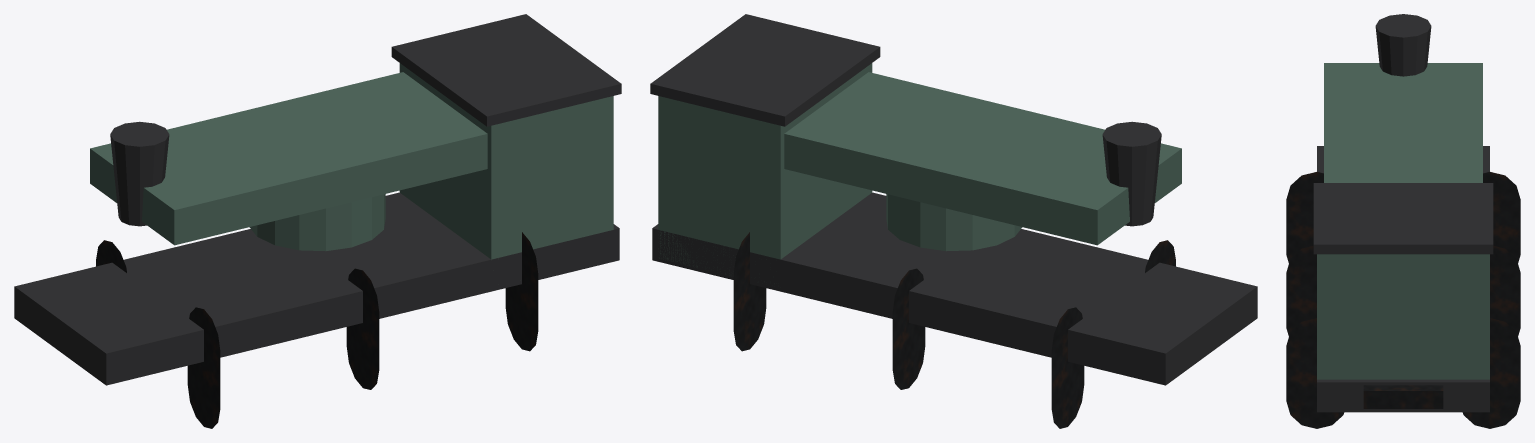
File: A_loco.glb
The picture shows the model from 3 angles, left to right: view 1: azimuth 30°, elevation 25°; view 2: azimuth 150°, elevation 25°; view 3: azimuth 270°, elevation 25°; orthographic projection. The views are drawn at different scales.
Visible parts, largest first — view 1: A_loco; view 2: A_loco; view 3: A_loco.
Part boxes in pixels (<box>): A_loco: <box>14,14,621,428</box>; A_loco: <box>650,14,1257,428</box>; A_loco: <box>1286,14,1520,428</box>.
Size of the model in its own units: 8.6 by 4.12 by 3.52.
4 materials, 1 textured.
